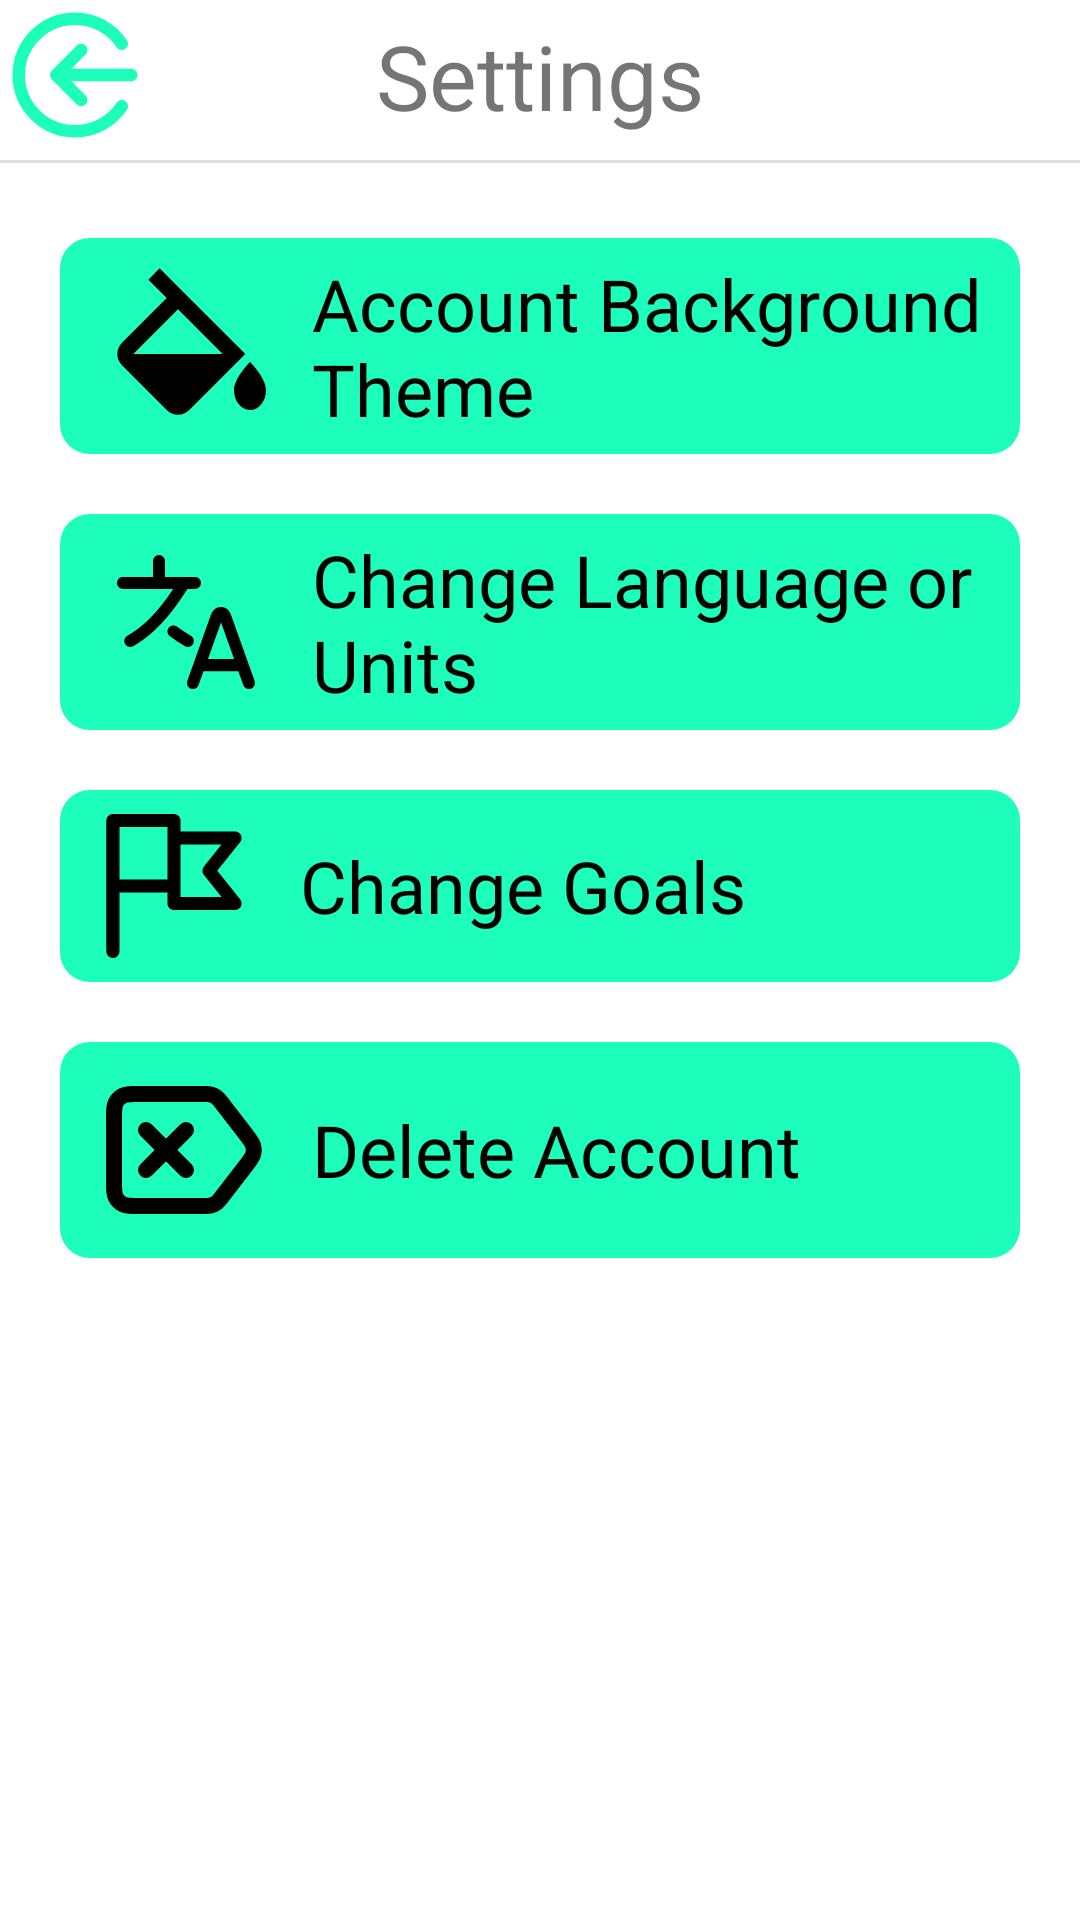

Point at icon controls on the screen. Image size 1080 x 1920, points as (x=x, y=y).
back arrow: (x=75, y=75)
language picker: (x=186, y=622)
